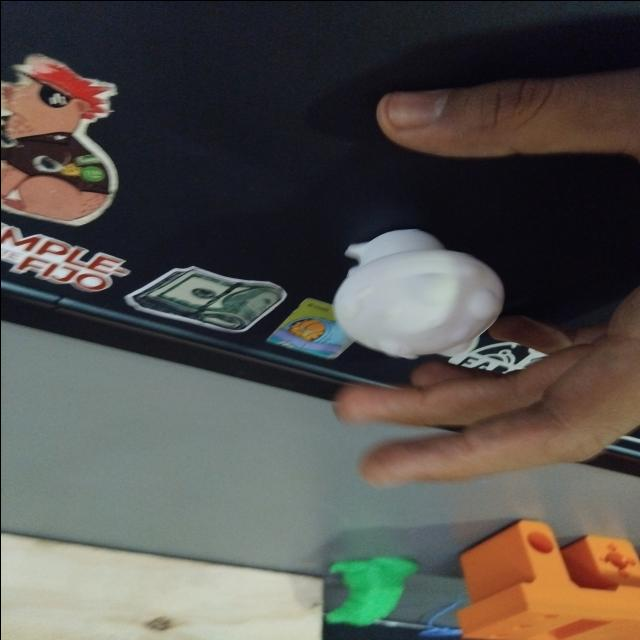Hongo: (328, 224, 510, 362)
